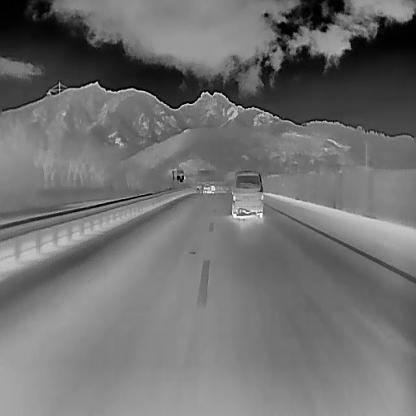car: (229, 170, 263, 219), (201, 183, 211, 194), (209, 183, 215, 193)
